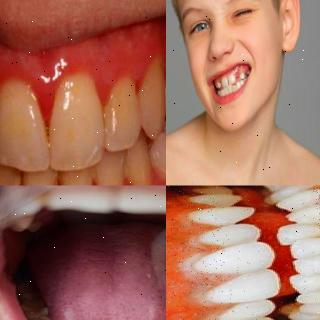Gum Swelling: (0, 61, 145, 126)
calculus: (0, 167, 23, 185)
maligned: (138, 61, 166, 141), (206, 221, 258, 254), (277, 220, 320, 253), (293, 195, 320, 229), (287, 268, 320, 294), (152, 126, 166, 184), (293, 249, 320, 275), (232, 84, 237, 93)
plaque: (116, 157, 144, 185), (82, 163, 106, 186)
